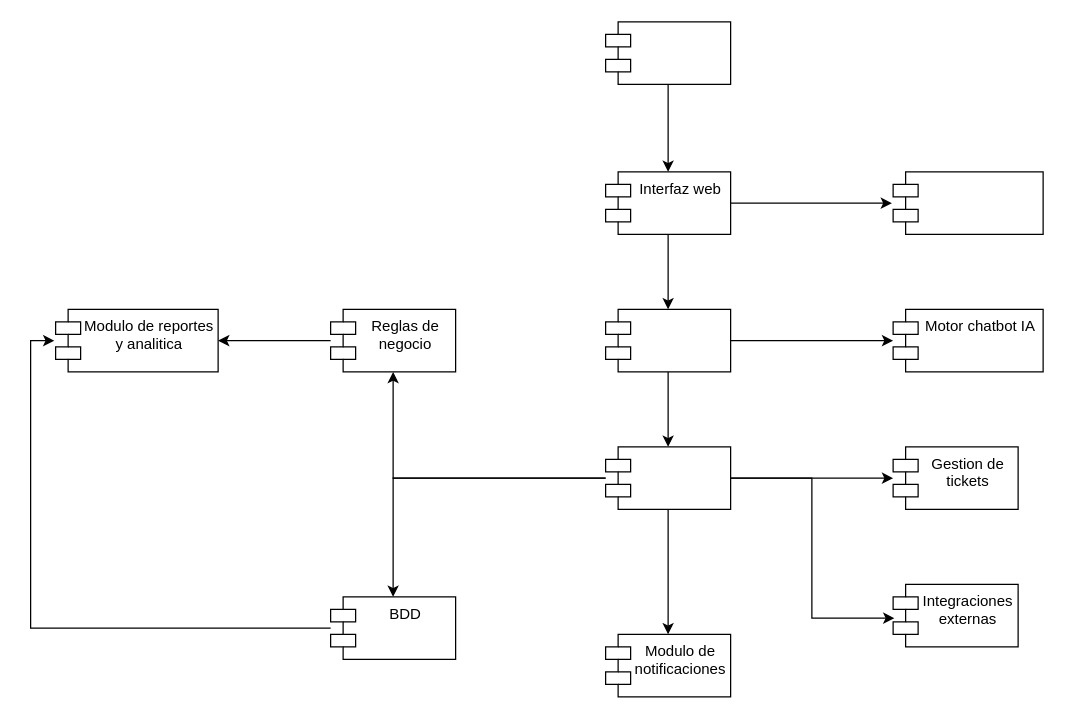
Some shapes in this 1065 by 719 pixel diagram are drawn without their labels. The shapes that lost their labels are listed below. From the top down, each one's box as (x1, y1, x2, y2) in pixels, then its label:
(604, 21, 731, 84): Usuario
(892, 171, 1043, 234): Modulo de autenticacion
(604, 308, 731, 372): Chatbot
(604, 446, 731, 509): Backend Helpdesk
